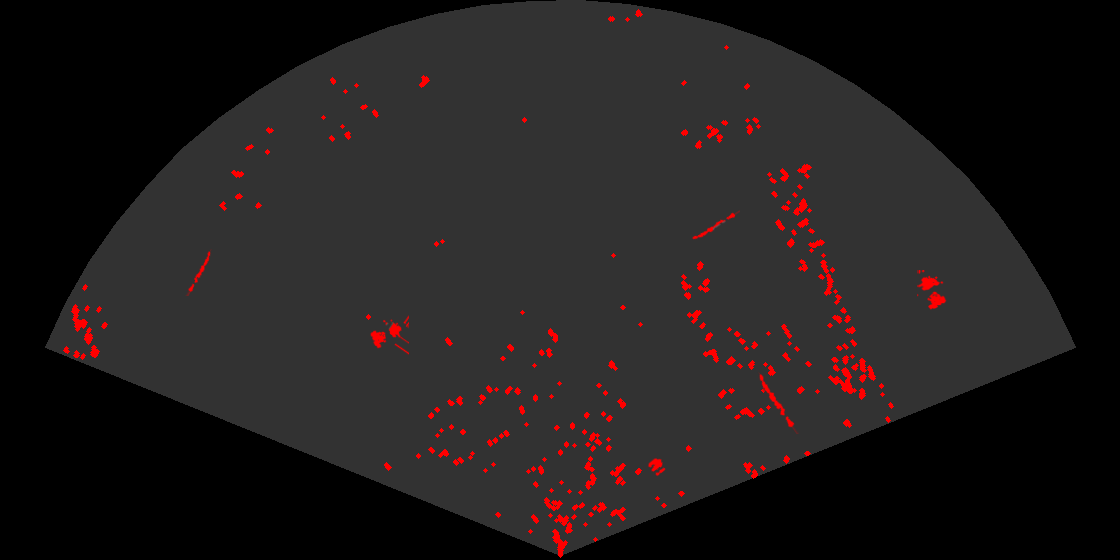ball: (646, 457, 667, 478)
cage: (369, 314, 409, 357), (917, 270, 948, 311)
chain: (757, 371, 799, 434), (691, 209, 740, 241), (185, 249, 213, 296)
